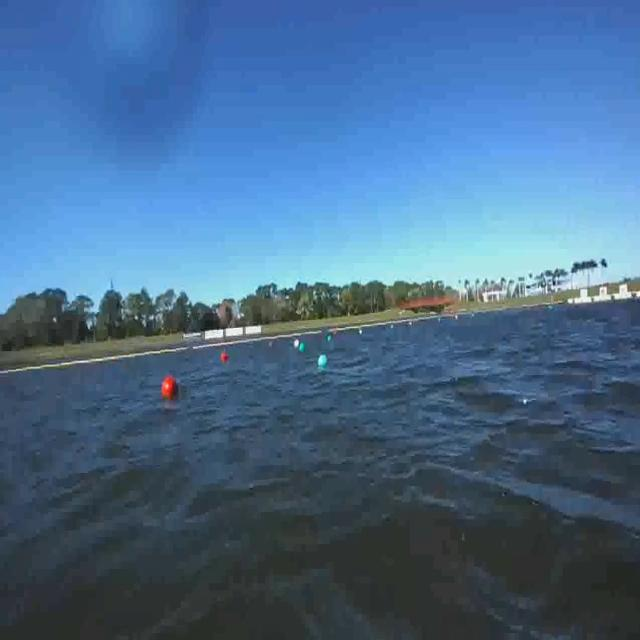green-buoy: (298, 339, 308, 359), (317, 352, 328, 369), (326, 333, 334, 344)
red-buoy: (161, 374, 178, 399), (221, 351, 228, 363)
